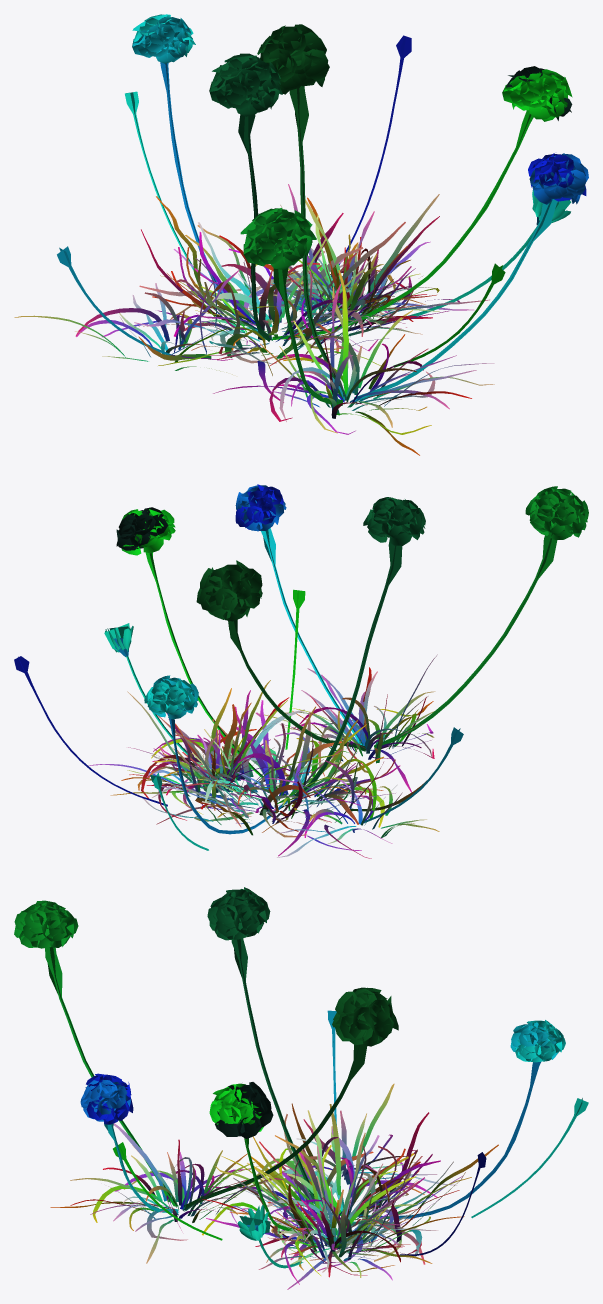
Rendered from Sea_Thrift_vkbgaihha_High_vkbgaihha_VarC_LOD0.fbx.
The picture shows the model from 3 angles, top to bottom: view 1: azimuth 30°, elevation 25°; view 2: azimuth 150°, elevation 25°; view 3: azimuth 270°, elevation 25°; orthographic projection. The views are drawn at different scales.
Parts seen in each view (by area): view 1: _x22i_VarC_LOD0; view 2: _x22i_VarC_LOD0; view 3: _x22i_VarC_LOD0.
Part boxes in pixels (x1,y1,x2,y2): _x22i_VarC_LOD0: (14, 14, 588, 455); _x22i_VarC_LOD0: (14, 484, 588, 858); _x22i_VarC_LOD0: (14, 887, 588, 1289).
Size of the model in its own units: 31.5 by 22.38 by 38.22.
